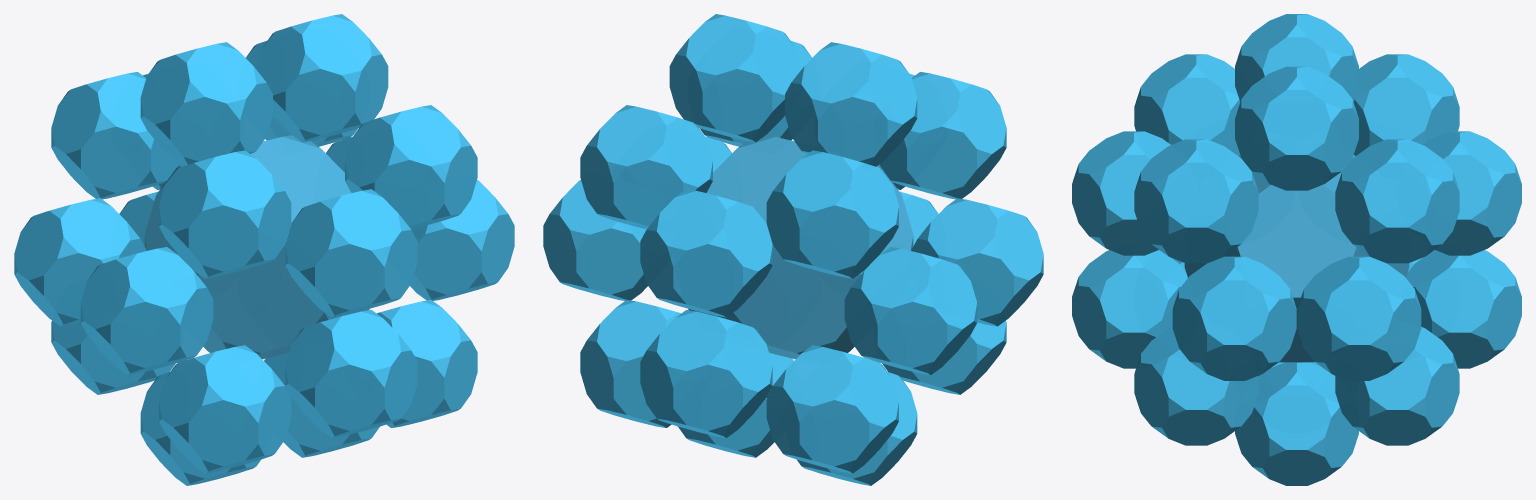
File: fractaltruncateddodecahedron1.glb
3 views of the same model, side by side, from view 1: azimuth 30°, elevation 25°; view 2: azimuth 150°, elevation 25°; view 3: azimuth 270°, elevation 25° (orthographic). The views are drawn at different scales.
Bounding box in the file's own units: 11.69 × 11.69 × 11.69.
